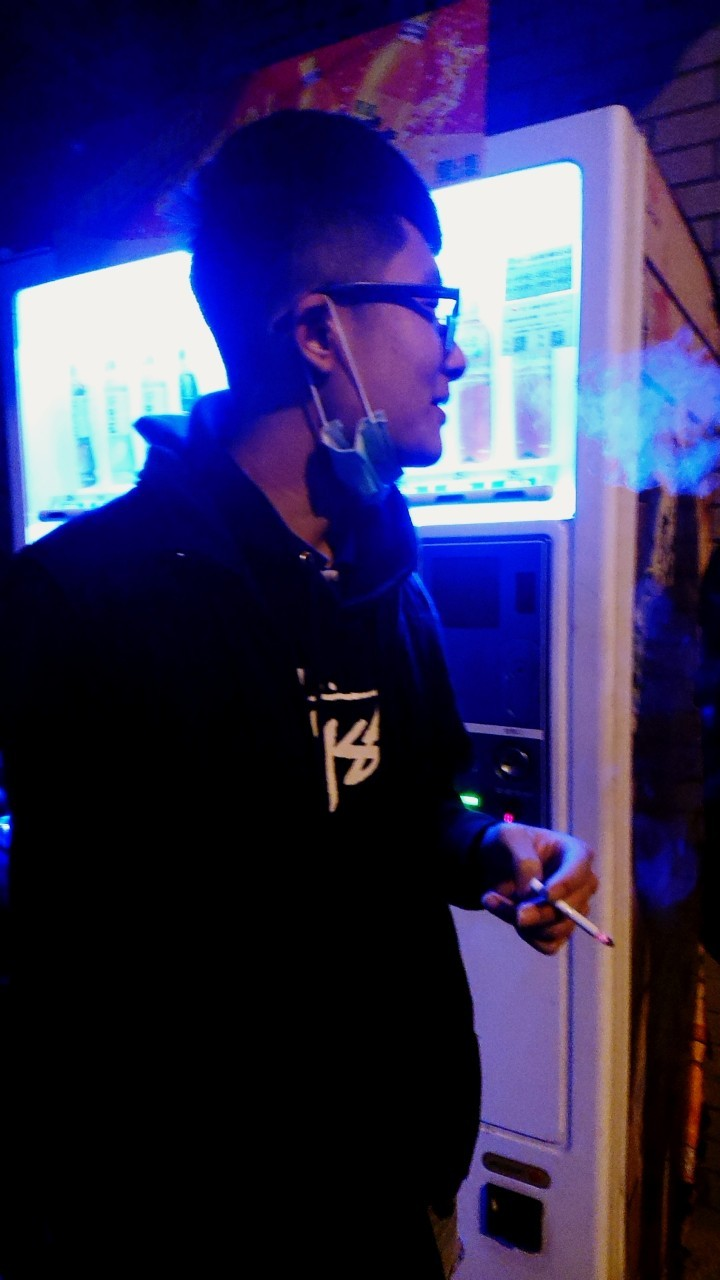people: (1, 121, 475, 1280)
